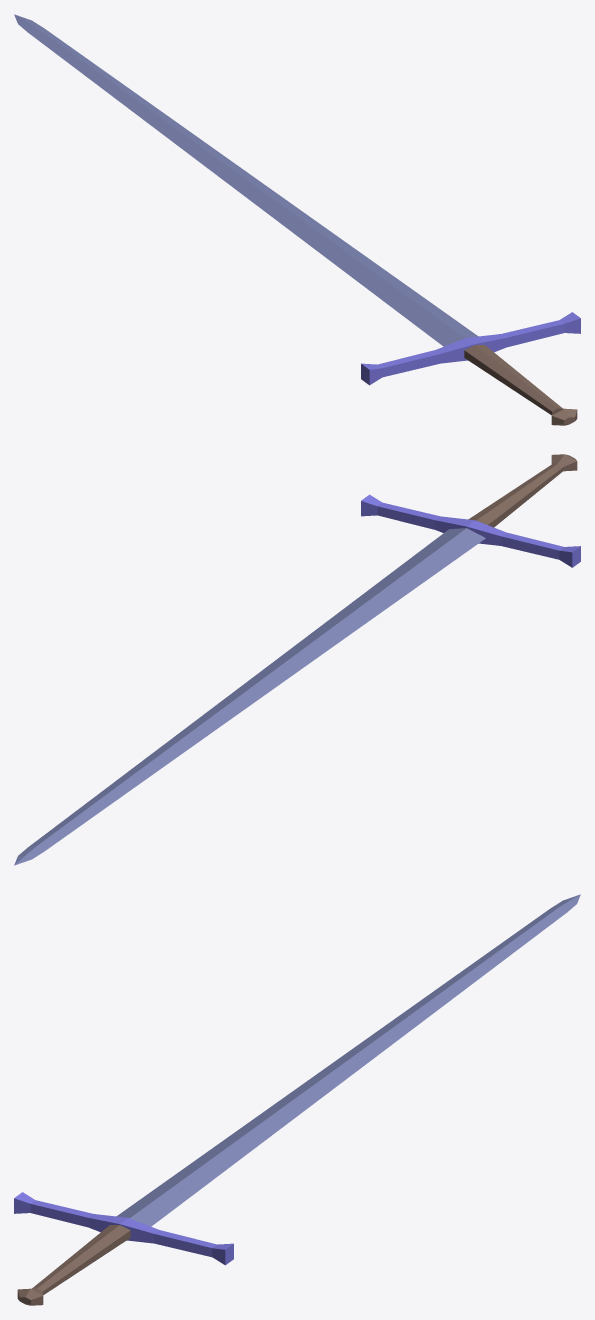
File: sword.fbx
3 views of the same model, one above another, from view 1: azimuth 30°, elevation 25°; view 2: azimuth 150°, elevation 25°; view 3: azimuth 330°, elevation 25° (orthographic).
Parts seen in each view (by area): view 1: Plane, Cube, Cube.001; view 2: Plane, Cube, Cube.001; view 3: Plane, Cube, Cube.001.
Part boxes in pixels (x1=…): Plane: x1=14, y1=14, x2=478, y2=346; Cube: x1=361, y1=312, x2=580, y2=385; Cube.001: x1=464, y1=345, x2=577, y2=425; Plane: x1=14, y1=528, x2=485, y2=865; Cube: x1=361, y1=494, x2=580, y2=567; Cube.001: x1=468, y1=454, x2=577, y2=527; Plane: x1=116, y1=894, x2=580, y2=1226; Cube: x1=14, y1=1192, x2=233, y2=1265; Cube.001: x1=17, y1=1225, x2=130, y2=1305.
Size of the model in its own units: 128 by 9.84 by 583.
